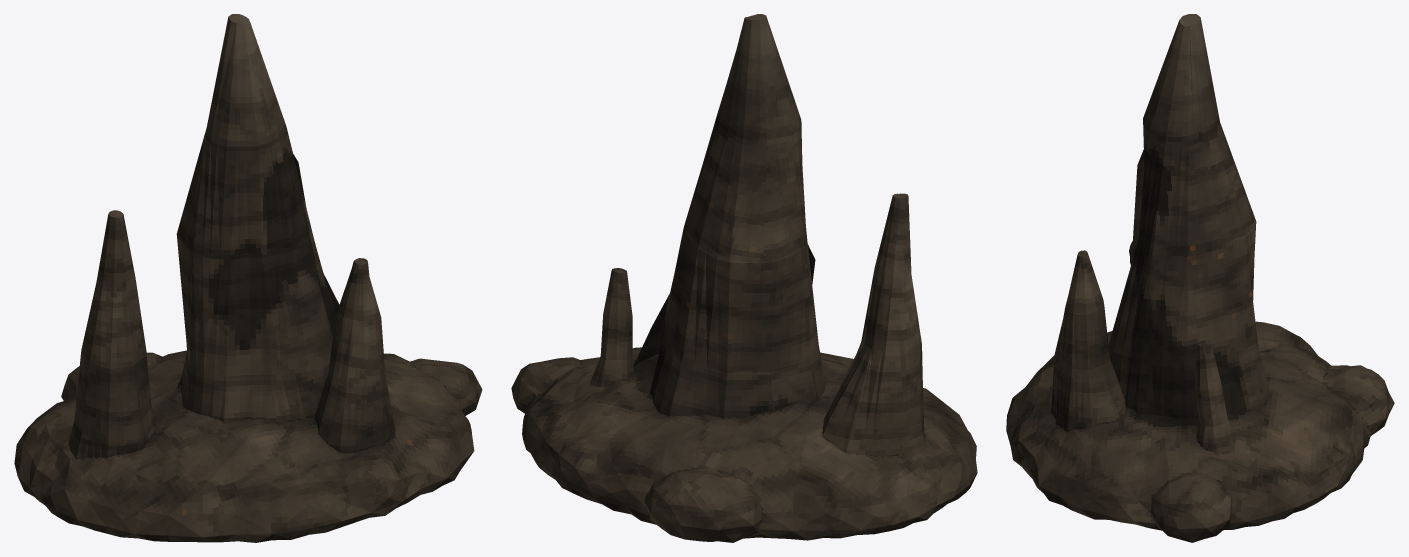
Rendered from mine_stalagmites_c.glb.
3 views of the same model, side by side, from view 1: azimuth 30°, elevation 25°; view 2: azimuth 150°, elevation 25°; view 3: azimuth 270°, elevation 25° (orthographic). The views are drawn at different scales.
Visible parts, largest first — view 1: mine_stalagmites_c.001; view 2: mine_stalagmites_c.001; view 3: mine_stalagmites_c.001.
Part boxes in pixels (x1,y1,x2,y2): mine_stalagmites_c.001: (14,14,482,542); mine_stalagmites_c.001: (511,14,977,542); mine_stalagmites_c.001: (1006,14,1394,542).
Size of the model in its own units: 2.68 by 2.6 by 2.19.
Materials: 1 (1 with a texture image).
